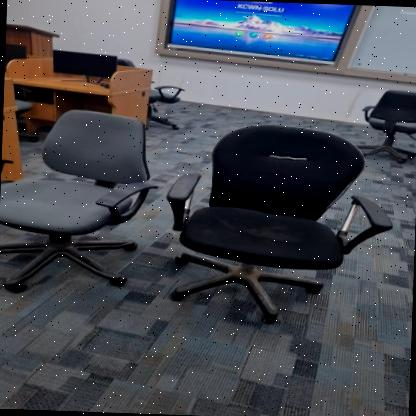chair: (153, 113, 402, 336), (0, 102, 157, 297)
